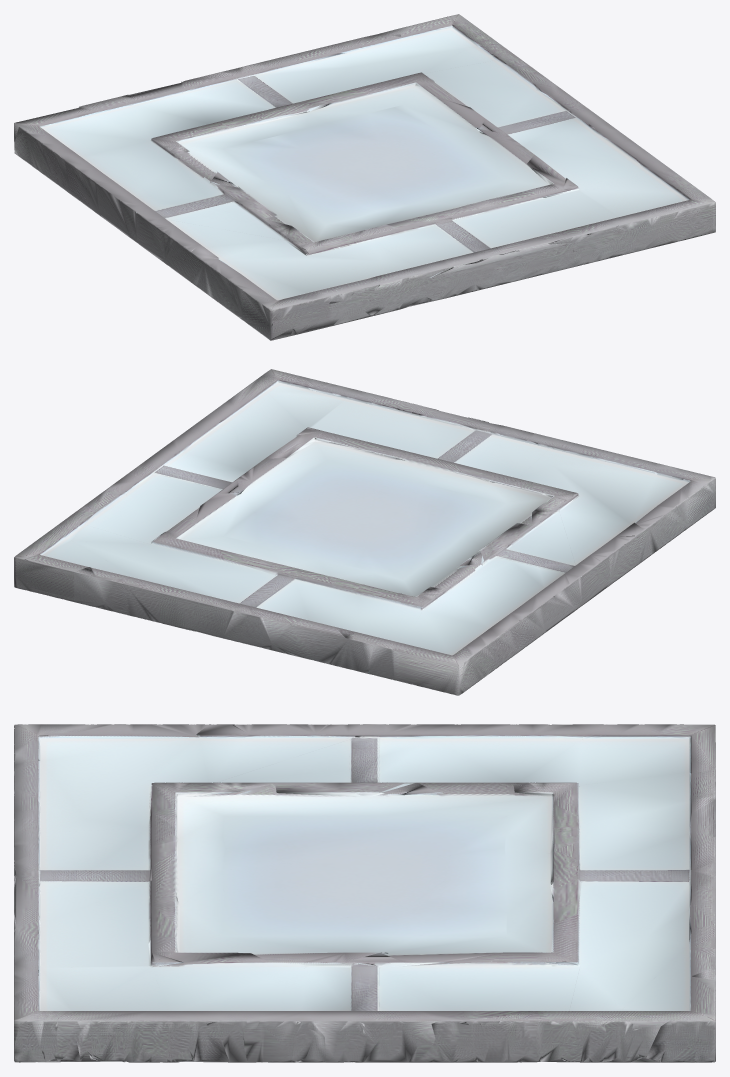
Rendered from ceiling-futuristic-lighting.glb.
3 views of the same model, one above another, from view 1: azimuth 30°, elevation 25°; view 2: azimuth 150°, elevation 25°; view 3: azimuth 270°, elevation 25° (orthographic). The views are drawn at different scales.
Size of the model in its own units: 1.91 by 0.126 by 1.91.
1 material, 1 textured.
